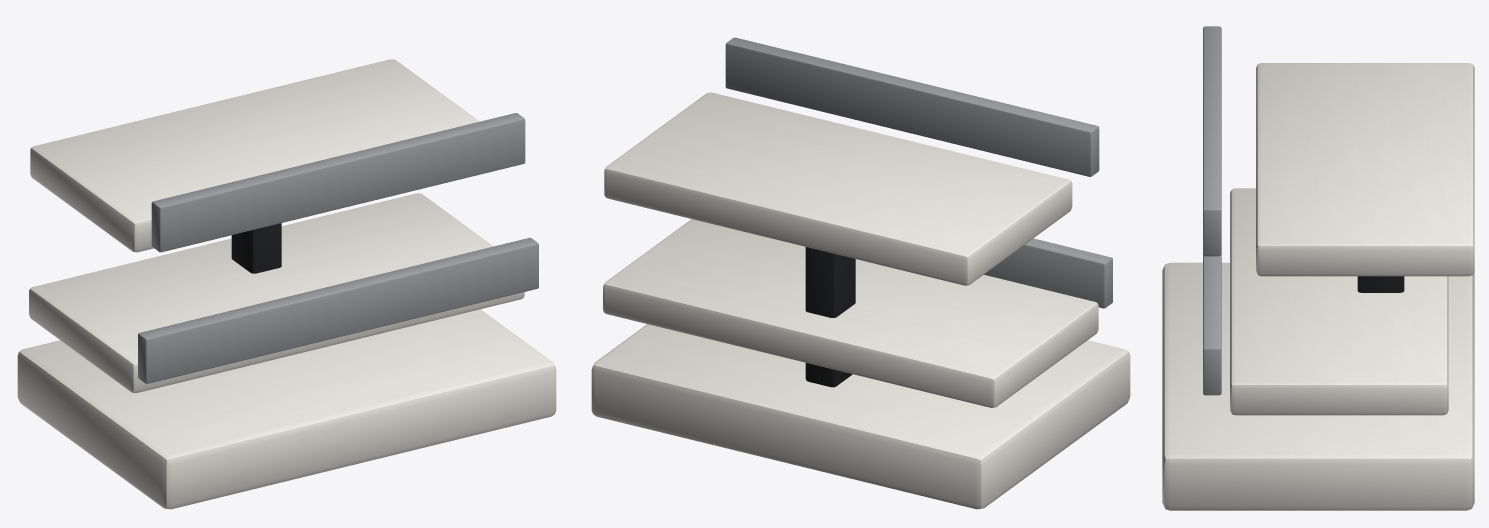
File: pf_display_checkout_display_t1.glb
3 renders of one model, left to right at view 1: azimuth 30°, elevation 25°; view 2: azimuth 150°, elevation 25°; view 3: azimuth 270°, elevation 25°, orthographic. The views are drawn at different scales.
Parts seen in each view (by area): view 1: Counter_Display_Base, Riser_02, Riser_01, Riser_Lip_01, Riser_Lip_02, Riser_Support_01; view 2: Counter_Display_Base, Riser_02, Riser_01, Riser_Lip_02, Riser_Lip_01, Riser_Support_01; view 3: Riser_02, Counter_Display_Base, Riser_01, Riser_Lip_02, Riser_Lip_01, Riser_Support_01.
Part boxes in pixels (bbox=[...]): Counter_Display_Base: bbox=[17, 309, 556, 509]; Riser_02: bbox=[30, 59, 479, 252]; Riser_01: bbox=[29, 193, 524, 393]; Riser_Lip_01: bbox=[138, 237, 538, 383]; Riser_Lip_02: bbox=[151, 113, 525, 252]; Riser_Support_01: bbox=[231, 223, 281, 273]; Counter_Display_Base: bbox=[591, 324, 1130, 509]; Riser_02: bbox=[604, 92, 1072, 285]; Riser_01: bbox=[603, 219, 1098, 407]; Riser_Lip_02: bbox=[725, 37, 1099, 176]; Riser_Lip_01: bbox=[984, 238, 1112, 308]; Riser_Support_01: bbox=[805, 247, 855, 387]; Riser_02: bbox=[1256, 63, 1474, 276]; Counter_Display_Base: bbox=[1162, 262, 1474, 510]; Riser_01: bbox=[1230, 188, 1448, 415]; Riser_Lip_02: bbox=[1203, 26, 1221, 256]; Riser_Lip_01: bbox=[1203, 255, 1221, 395]; Riser_Support_01: bbox=[1357, 276, 1404, 292].
Bounding box in the file's own units: 0.45 × 0.32 × 0.3.
4 materials, 2 textured.
